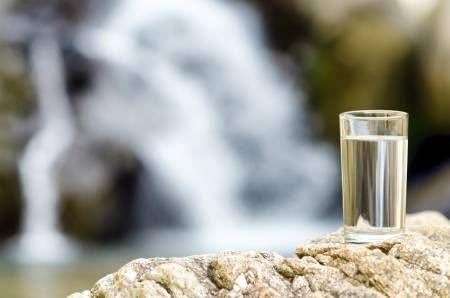glass of water: (337, 104, 416, 250)
